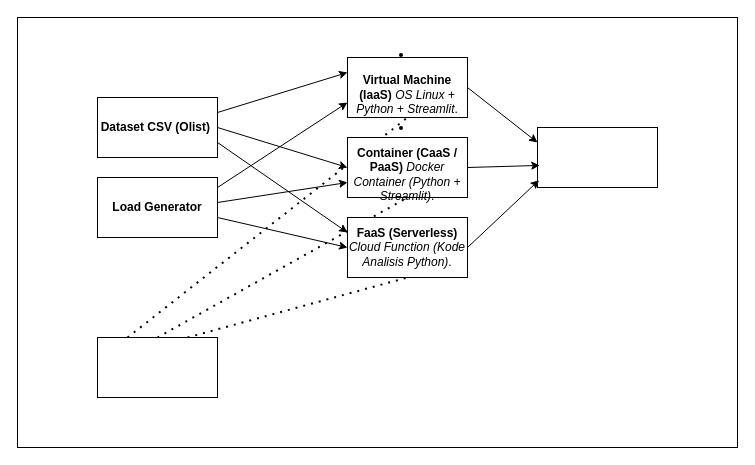
Image size: 755x465. Some labels were removed from this diagram. The centre of each missing label's shape, as x and y in pixels:
Monitoring & Pencatatan Biaya: (x=157, y=367)
Web Dashboard (Streamlit): (x=597, y=157)
